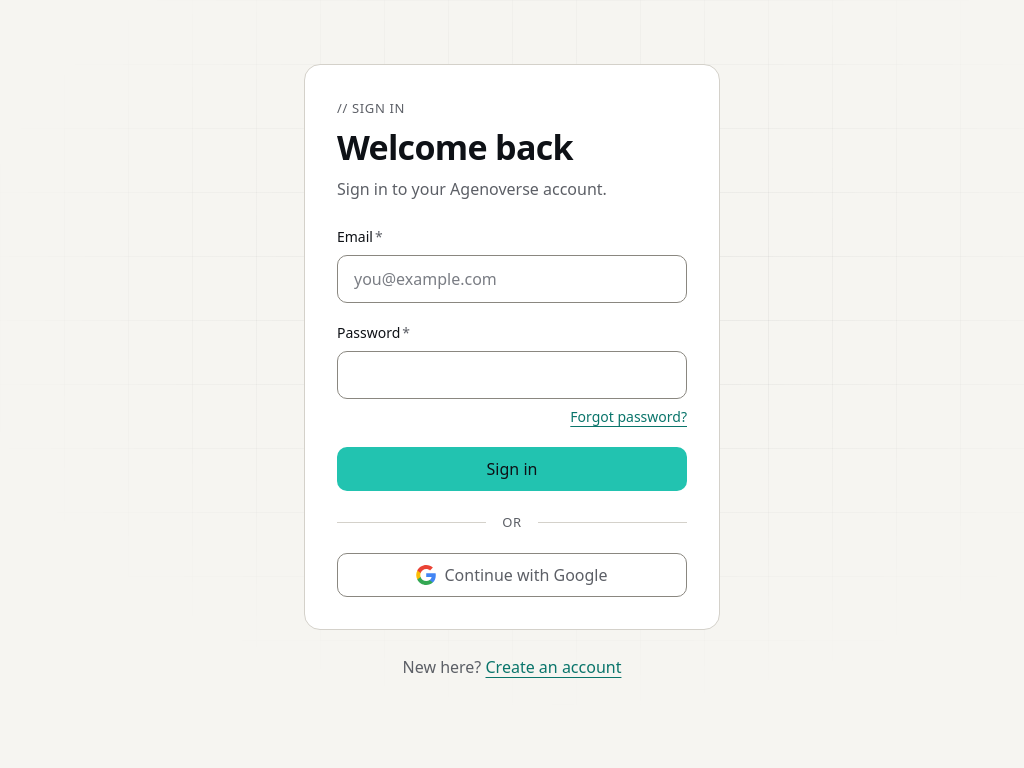
Sign in › turns Firebase codes into plain sentences
This screenshot has width=1024, height=768.
Type "ada@example.com" into the field labelled "Email*".
click(512, 279); type("ada@example.com")  # box top-left (337, 255), bottom-right (687, 303)
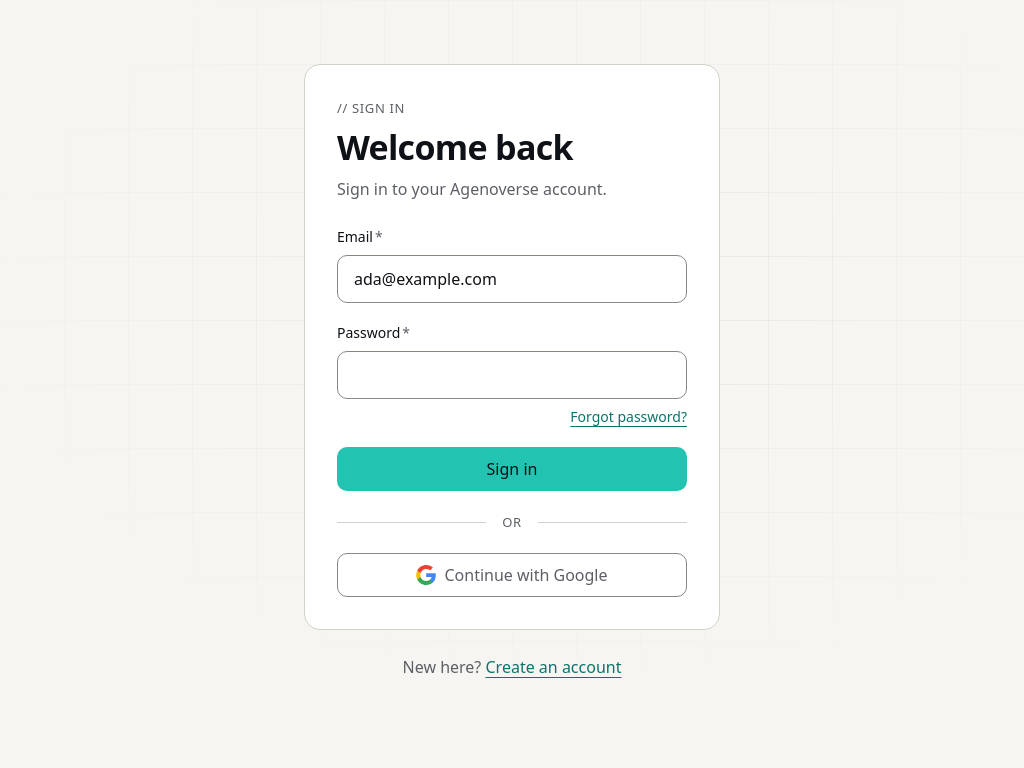
Type "nope" into the password field labelled "Password*".
click(512, 375); type("nope")  # box top-left (337, 351), bottom-right (687, 399)
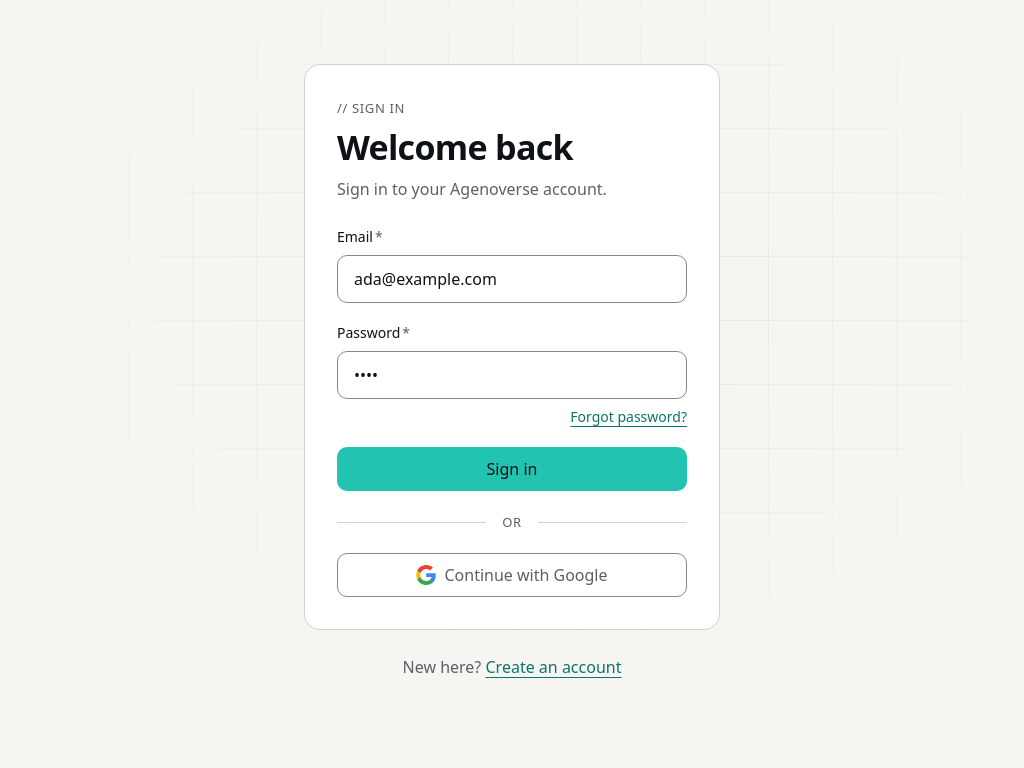
Click the button "Sign in".
click(512, 469)  # box top-left (337, 447), bottom-right (687, 491)
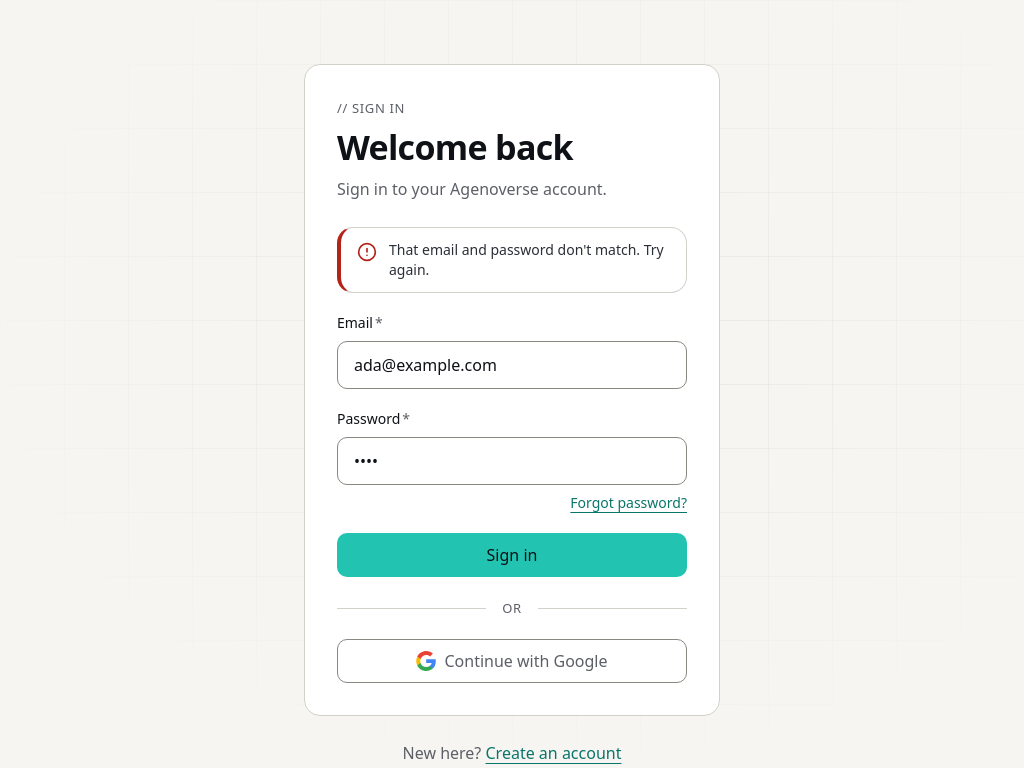
Expected: the text "That email and password don't match. Try again." is shown, top-left (389, 240), bottom-right (674, 280)
